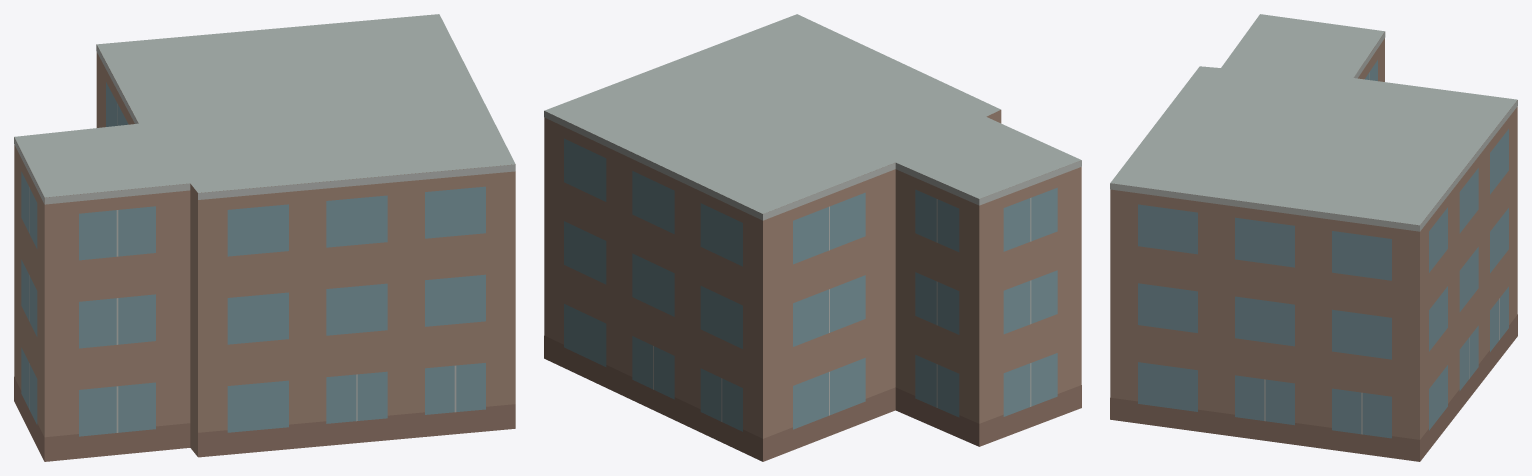
Rendered from survey-upis-32584317.glb.
3 renders of one model, left to right at view 1: azimuth 30°, elevation 25°; view 2: azimuth 150°, elevation 25°; view 3: azimuth 270°, elevation 25°, orthographic. The views are drawn at different scales.
Visible parts, largest first — view 1: survey-upis-32584317.tmp; view 2: survey-upis-32584317.tmp; view 3: survey-upis-32584317.tmp.
Boxes of the visible parts, bbox=[...] form: survey-upis-32584317.tmp: bbox=[14, 14, 515, 461]; survey-upis-32584317.tmp: bbox=[544, 14, 1081, 461]; survey-upis-32584317.tmp: bbox=[1110, 14, 1517, 461].
Size of the model in its own units: 17.55 by 9.15 by 14.3.
